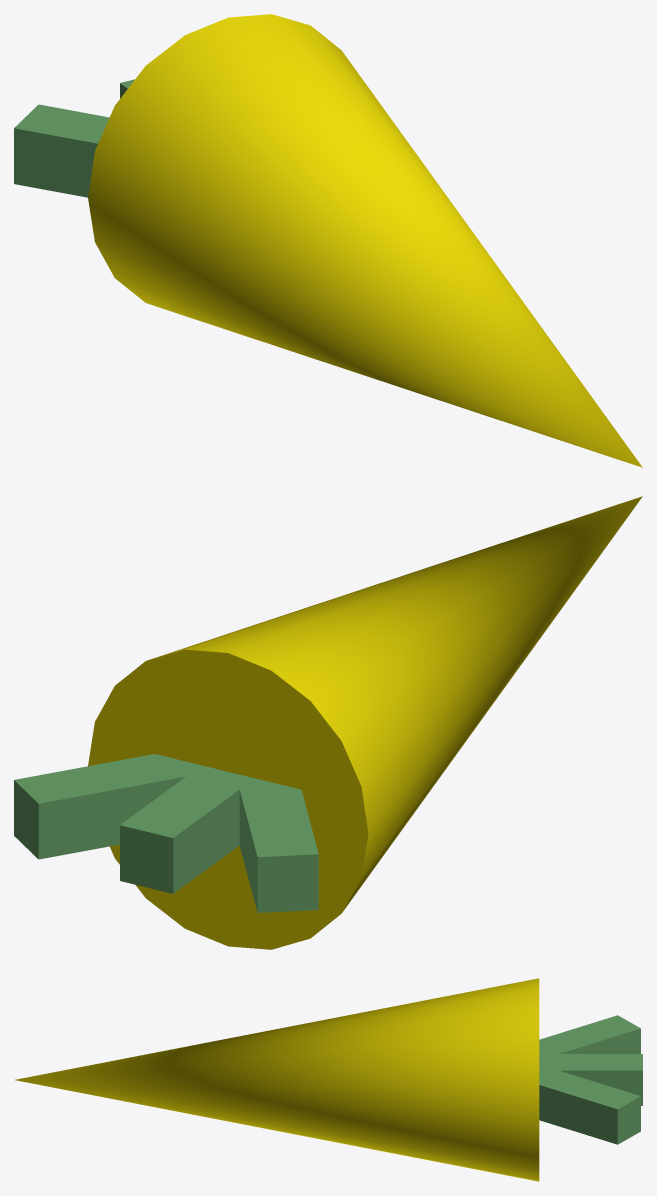
Rendered from GoldCarrot.fbx.
3 renders of one model, top to bottom at view 1: azimuth 30°, elevation 25°; view 2: azimuth 150°, elevation 25°; view 3: azimuth 270°, elevation 25°, orthographic. The views are drawn at different scales.
Visible parts, largest first — view 1: polySurface2; view 2: polySurface2; view 3: polySurface2.
Part boxes in pixels (<box>): polySurface2: <box>14,14,642,467</box>; polySurface2: <box>14,496,642,949</box>; polySurface2: <box>15,978,642,1181</box>.
Size of the model in its own units: 0.8486 by 0.7806 by 2.39.
